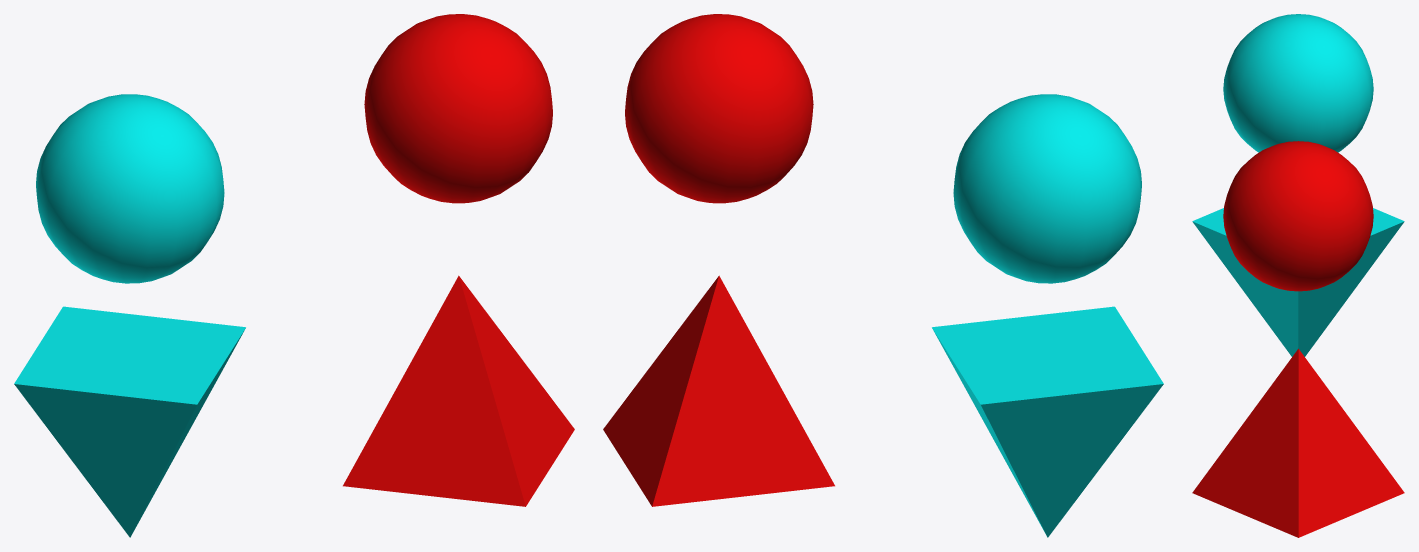
Rendered from Gender.fbx.
3 views of the same model, side by side, from view 1: azimuth 30°, elevation 25°; view 2: azimuth 150°, elevation 25°; view 3: azimuth 270°, elevation 25° (orthographic). The views are drawn at different scales.
Visible parts, largest first — view 1: pSphere3; view 2: pSphere3; view 3: pSphere3.
Part boxes in pixels (bbox=[...]): pSphere3: bbox=[14, 14, 574, 537]; pSphere3: bbox=[603, 14, 1163, 537]; pSphere3: bbox=[1192, 14, 1404, 537].
Size of the model in its own units: 6.83 by 5.06 by 2.83.
